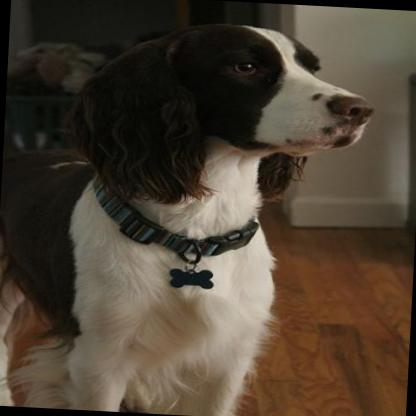English_springer: (0, 8, 378, 416)
